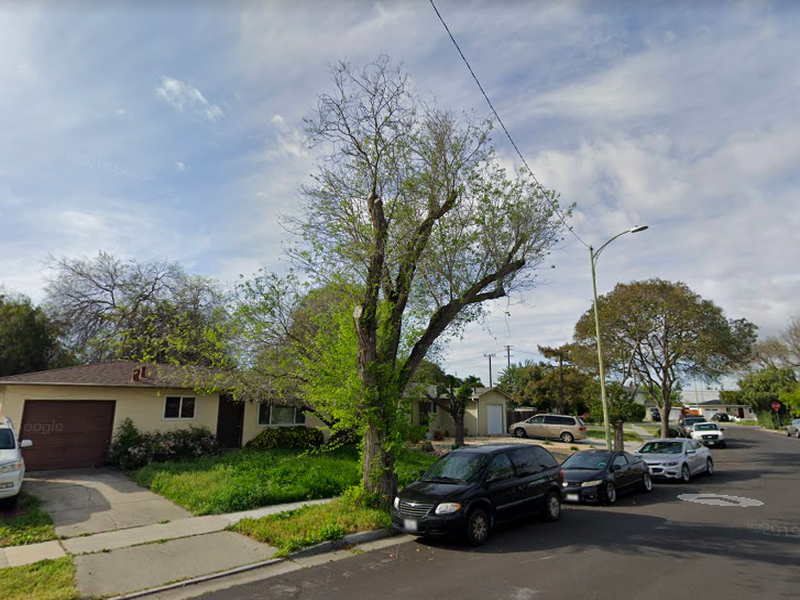tree: (248, 53, 579, 517)
